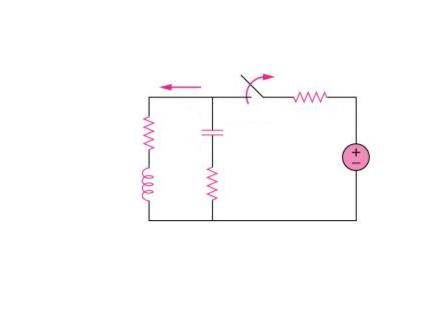resistor: (283, 84, 339, 111), (133, 105, 159, 157), (200, 153, 224, 206)
